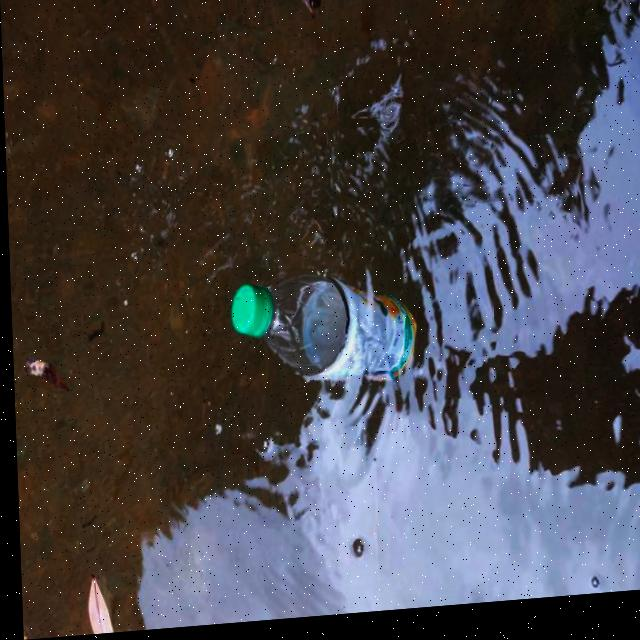leaf: (62, 539, 155, 637), (10, 340, 63, 403), (266, 0, 355, 25)
waterbottle: (216, 260, 451, 439)
